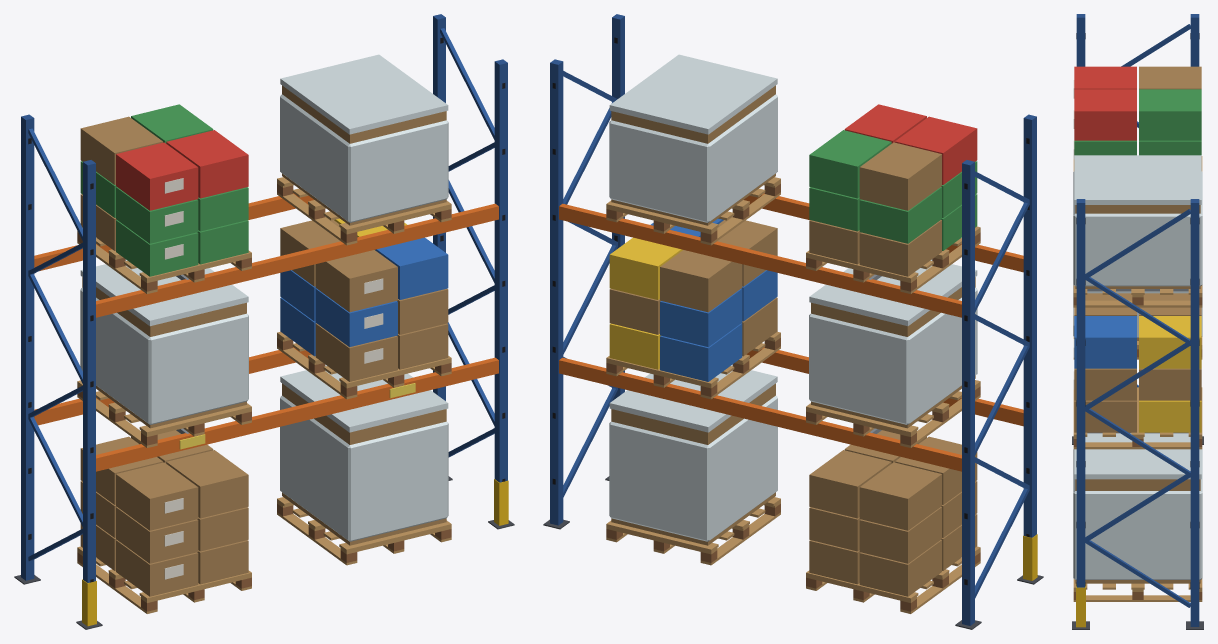
The model's file is Pallet_Rack_Bay_4m.fbx.
3 renders of one model, left to right at view 1: azimuth 30°, elevation 25°; view 2: azimuth 150°, elevation 25°; view 3: azimuth 270°, elevation 25°, orthographic. The views are drawn at different scales.
Parts seen in each view (by area): view 1: Pallet_Rack_Bay_4m; view 2: Pallet_Rack_Bay_4m; view 3: Pallet_Rack_Bay_4m.
Boxes of the visible parts, bbox=[...] form: Pallet_Rack_Bay_4m: bbox=[14, 14, 514, 629]; Pallet_Rack_Bay_4m: bbox=[543, 14, 1043, 629]; Pallet_Rack_Bay_4m: bbox=[1072, 14, 1203, 629].
Bounding box in the file's own units: 4.08 × 4.2 × 1.18.
1 material, 1 textured.
